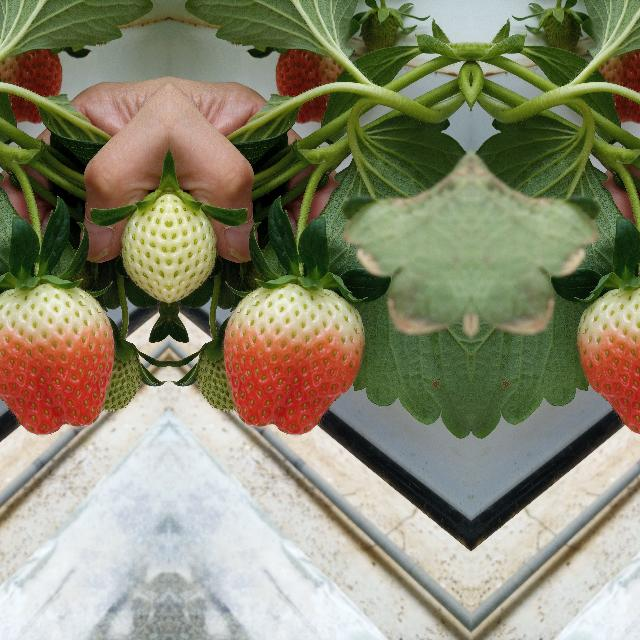Health_25: (168, 197, 220, 303), (116, 197, 168, 303)
Health_75: (222, 282, 364, 436), (0, 282, 114, 435), (576, 282, 640, 435)
